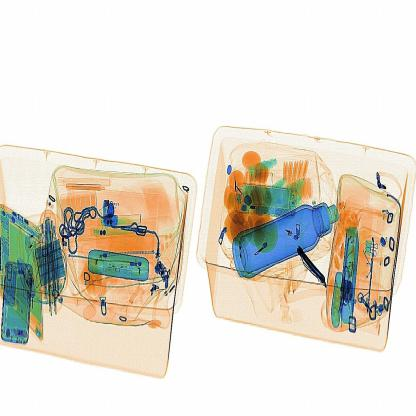knife: (291, 236, 332, 292)
